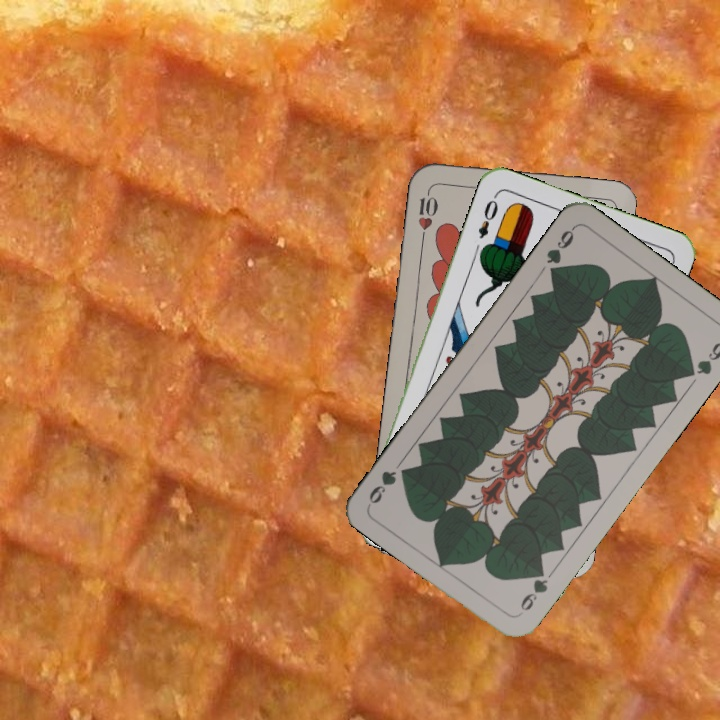EO: (474, 191, 501, 241)
G9: (542, 223, 578, 280), (514, 563, 551, 618)
H10: (414, 184, 441, 243)
